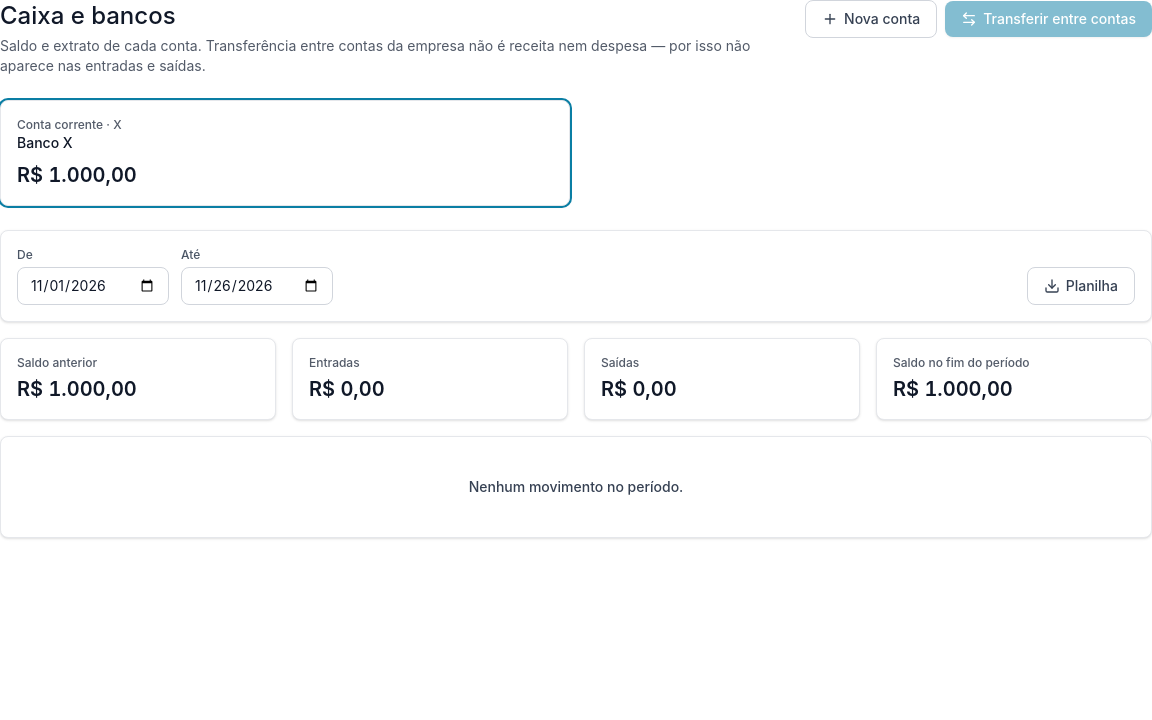
Scenario: Caixa e bancos › a API recusar a conta: avisa o motivo e a janela continua aberta
This screenshot has width=1152, height=720.
Expected: the button "Conta corrente · X Banco X R$ 1.000,00" is shown, [0,100,570,206]
Click the button "Nova conta". click: (871, 19)
box: [805,0,937,38]
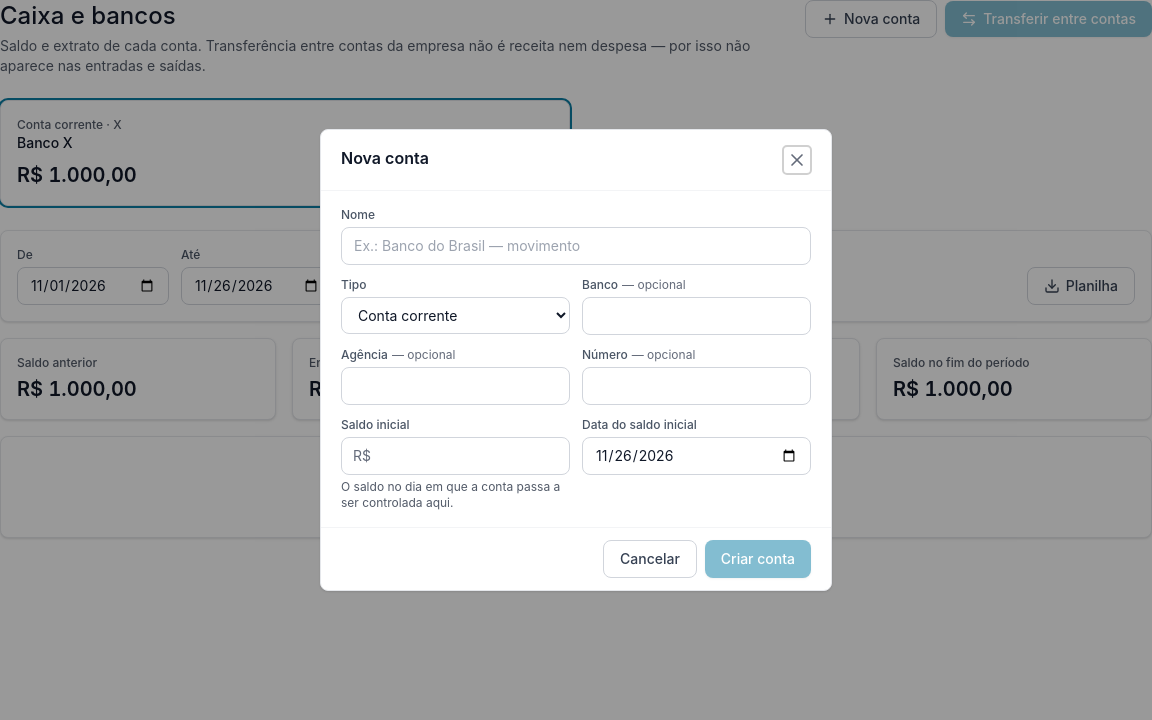
Type "Banco X" into the field labelled "Nome". click: (576, 246)
box: [341,227,811,265]
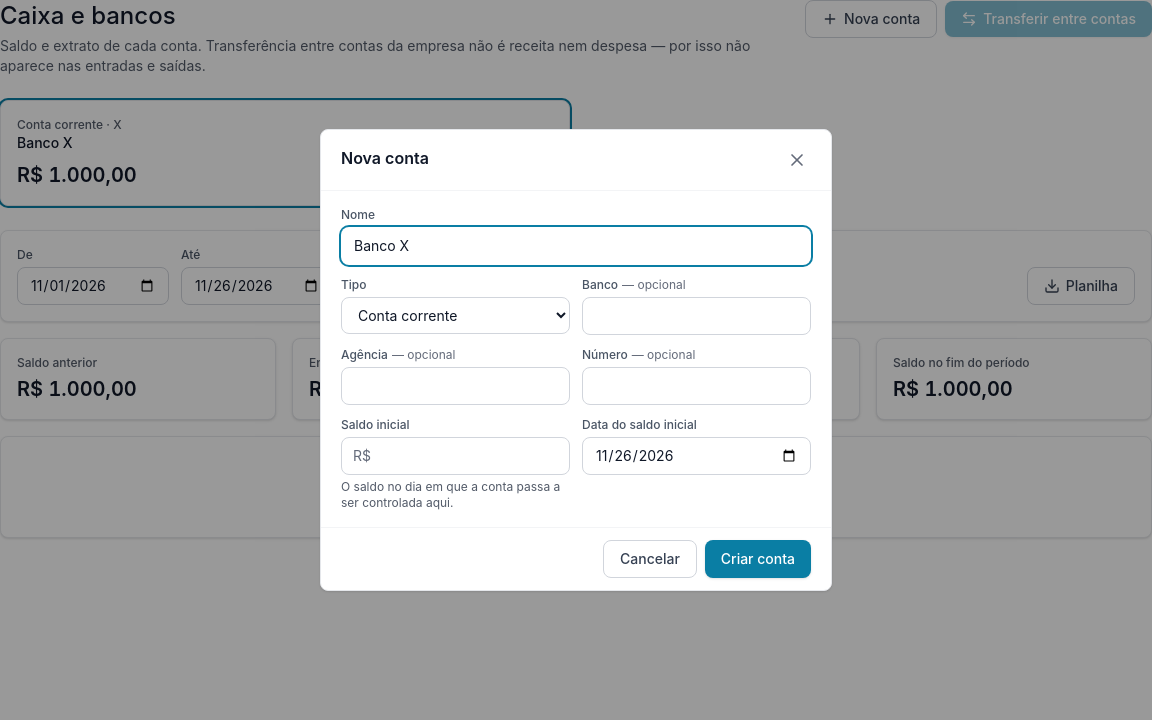
Click the button "Criar conta". click: (758, 559)
box: [705,540,811,578]
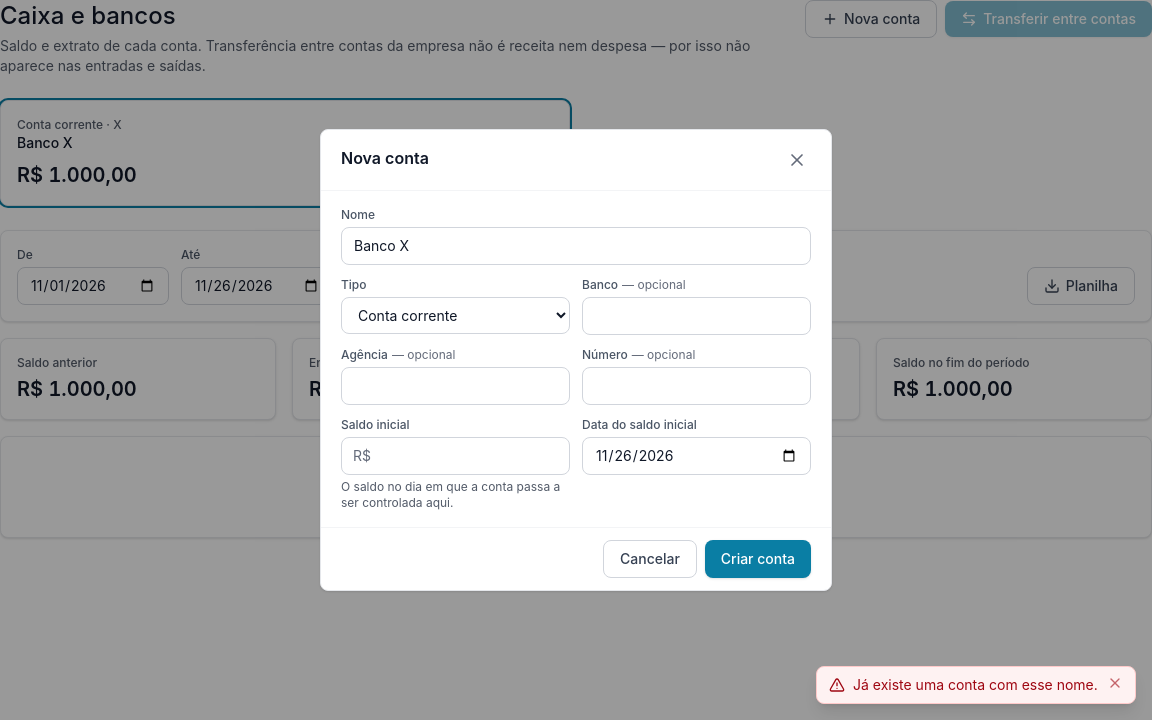
Expected: the dialog is shown, [320,129,832,591]
Expected: the message reads "Já existe uma conta com esse nome.", [853,676,1098,693]
